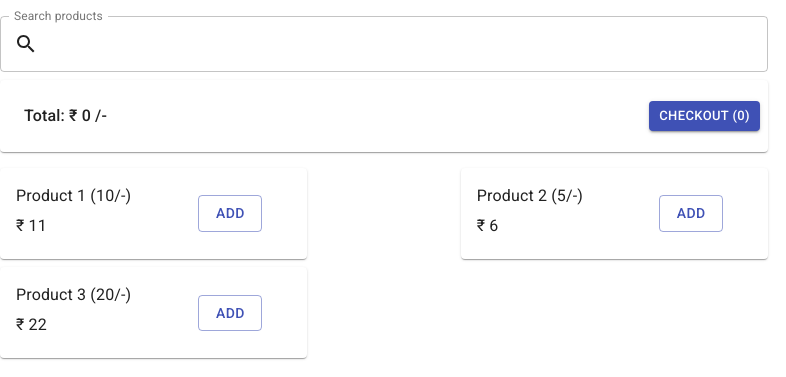
Sell products › should render searched product
Expected: the text "Product 1 (10/-)" is shown, [16,184,138,208]
Expected: the text "Product 2 (5/-)" is shown, [477,184,598,208]
Type "pRODUct 2" into the field with test id "productSearch".
click(403, 44); type("pRODUct 2")  # box [38,16,768,72]
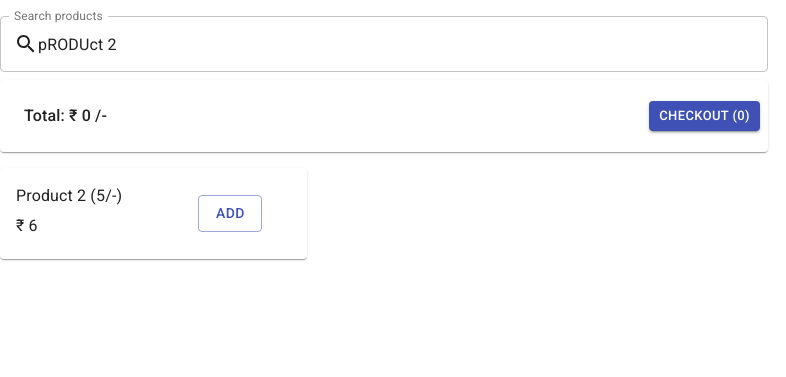
Expected: the text "Product 2 (5/-)" is shown, [16,184,138,208]
Expected: the text "Product 1" is gone
Expected: the text "Product 3" is gone
